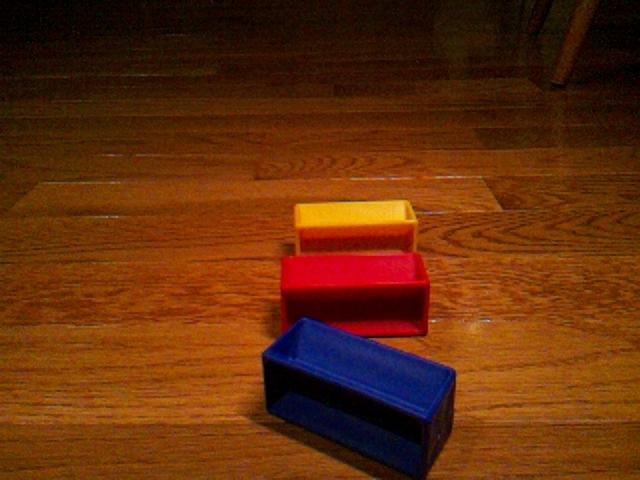blue: (261, 315, 458, 478)
red: (279, 251, 431, 338)
yellow: (293, 199, 419, 254)
